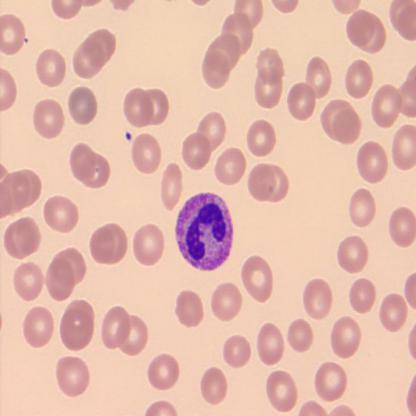Segmented neutrophil: (174, 190, 235, 272)
